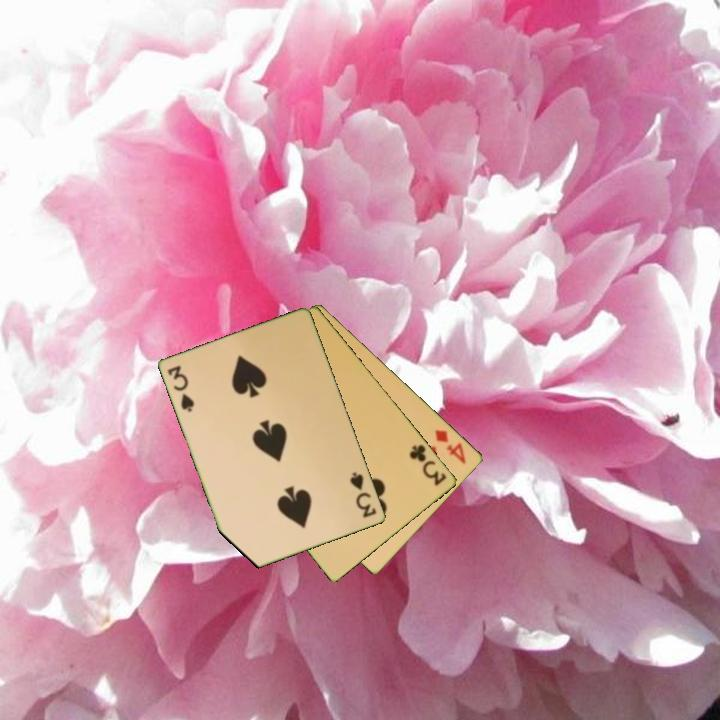3c: (406, 441, 449, 489)
3s: (164, 362, 198, 415), (347, 469, 380, 521)
4d: (432, 426, 469, 467)
